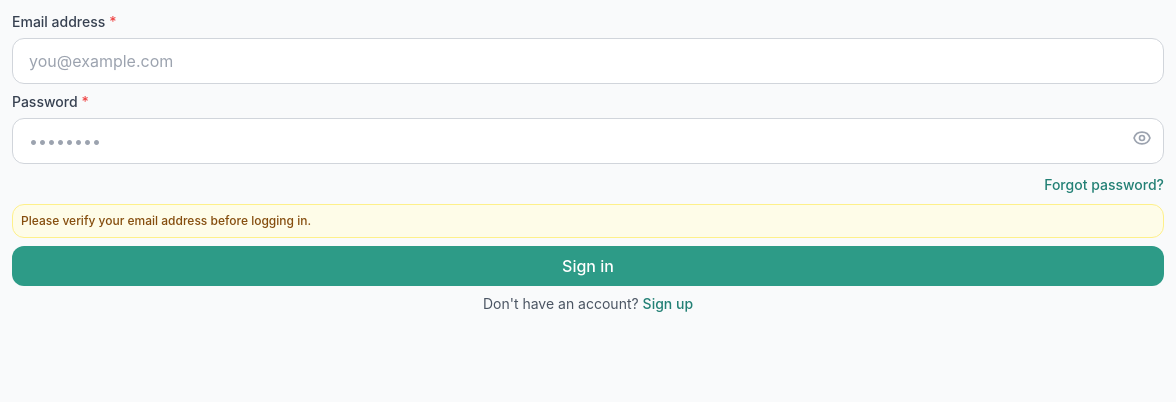
Scenario: EmailPasswordForm › LOGIN MODE › Error Handling › displays EMAIL_NOT_CONFIRMED error with resend button
The width and height of the screenshot is (1176, 402).
Step 1. Type "unverified@example.com" into the field labelled "Email address*" → (588,61), box [12,38,1164,84]
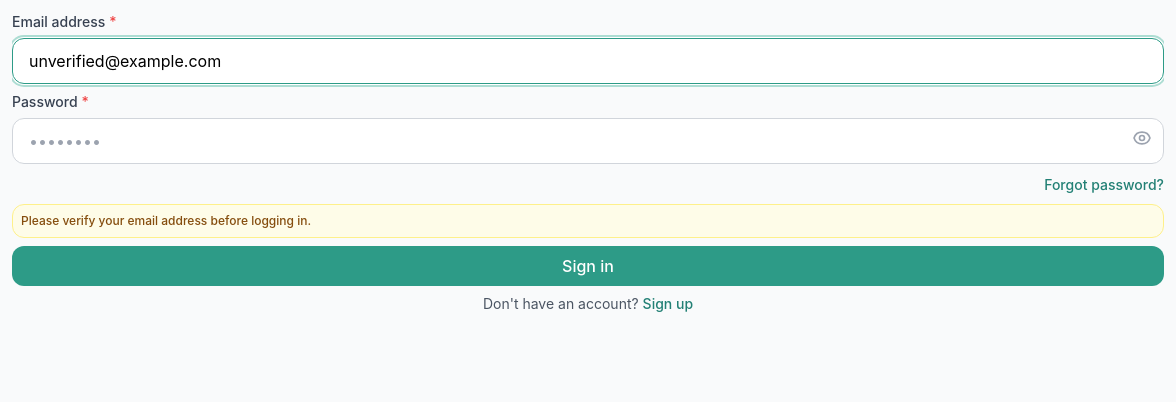
Step 2. Type "password123" into the password field labelled "Password*" → (588,141), box [12,118,1164,164]
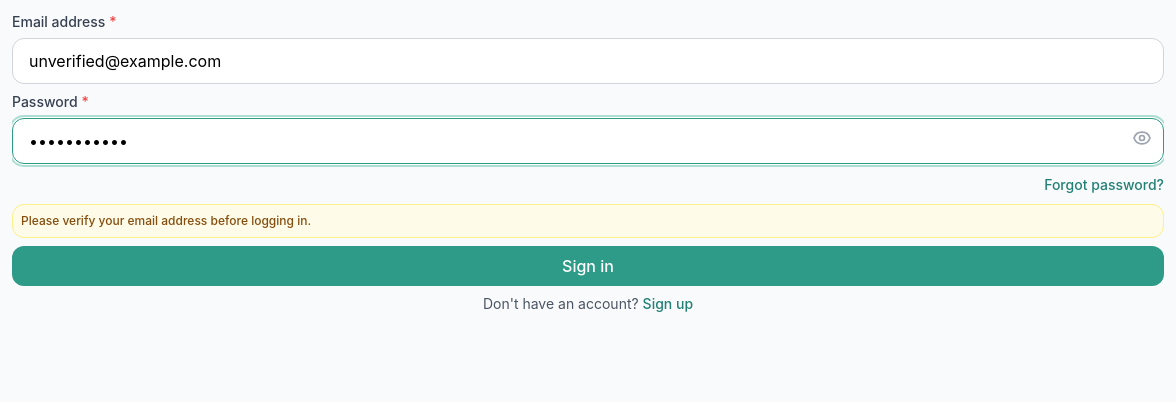
Step 3. Click the button "Sign in" → (588,266), box [12,246,1164,286]
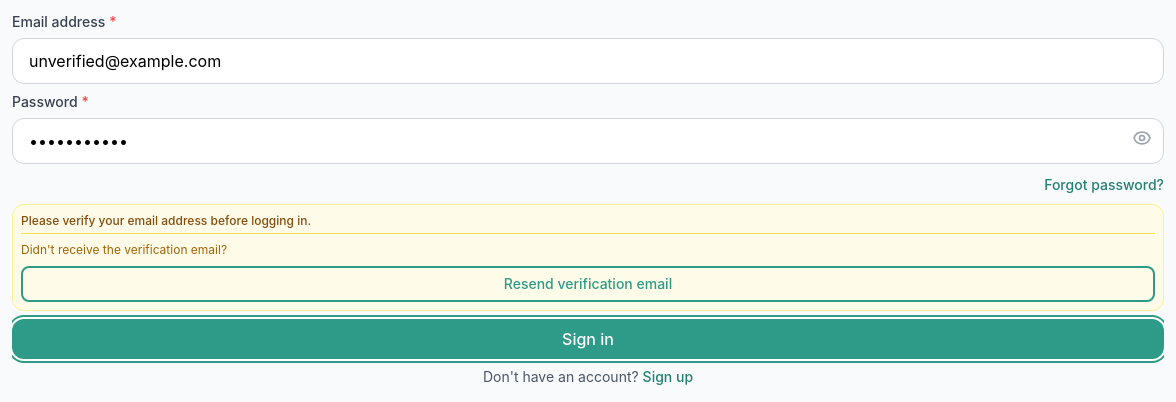
Expected: the text "Please verify your email address before logging in." is shown, [21,213,311,228]
Now the text "Didn't receive the verification email?" is shown, box [21,242,227,257]
Now the button "Resend verification email" is shown, box [21,266,1155,302]
